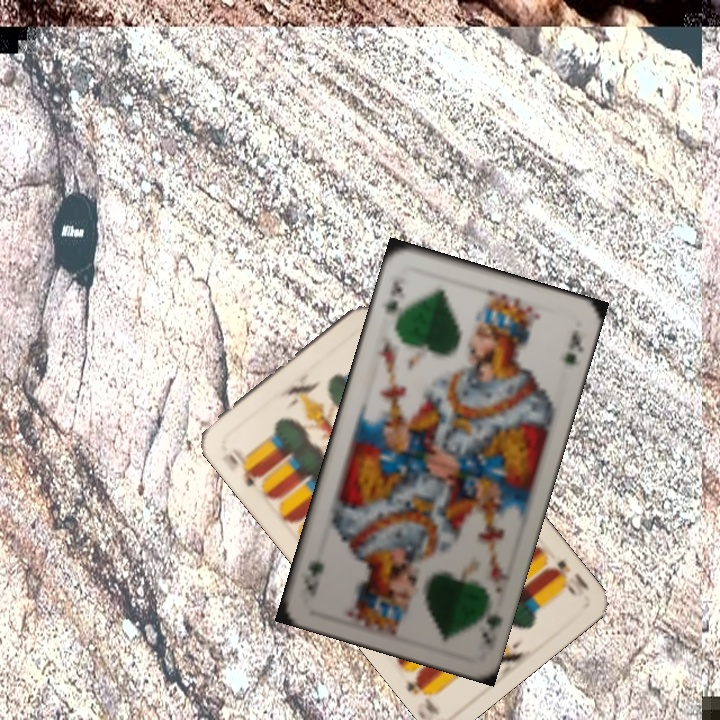E10: (543, 556, 592, 598), (224, 444, 265, 490)
GK: (380, 273, 409, 318), (477, 609, 504, 646)
